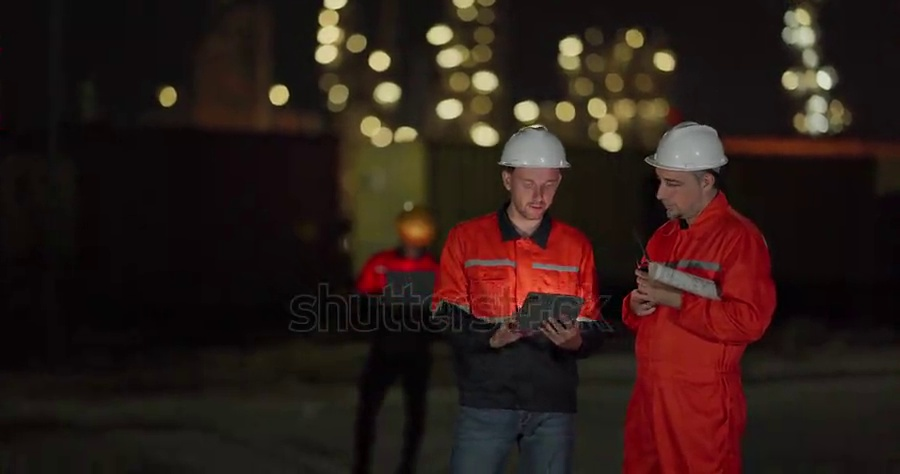helmet: (644, 121, 729, 172), (498, 126, 572, 171), (395, 207, 438, 248)
person: (432, 122, 607, 474), (617, 118, 779, 474), (351, 207, 440, 474)
